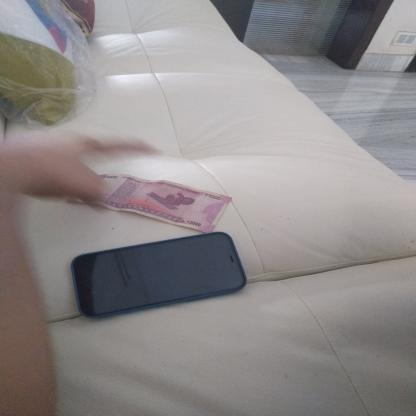New2000Back: (78, 178, 228, 228)
